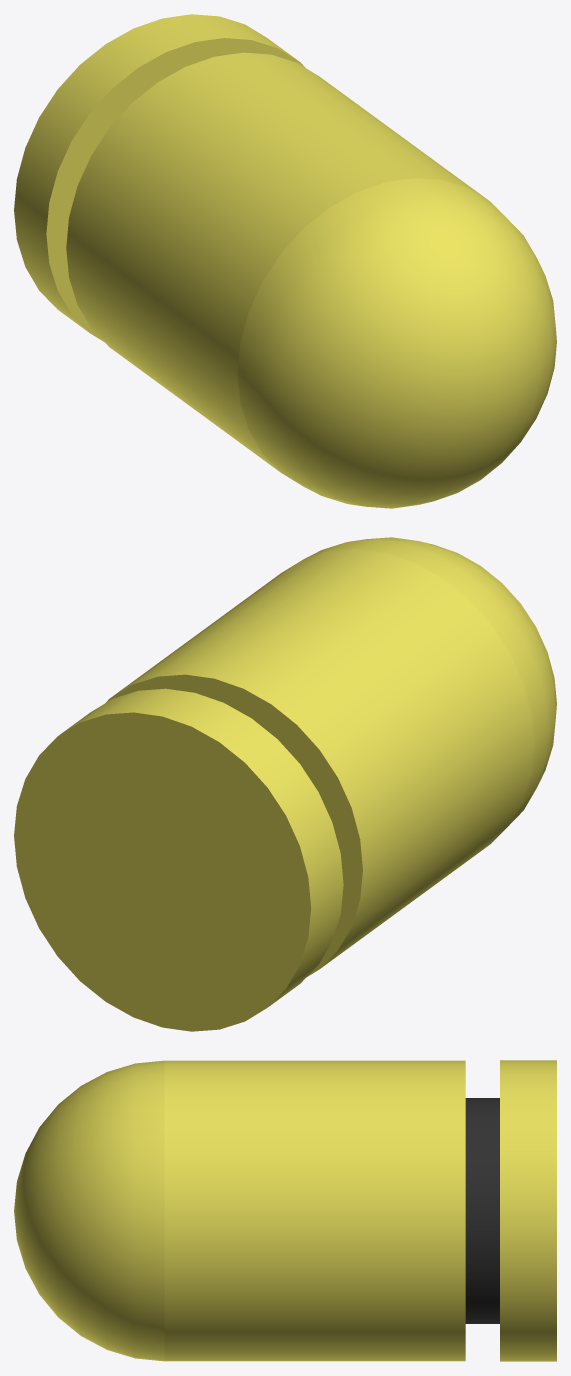
The model's file is boulet.fbx.
3 views of the same model, one above another, from view 1: azimuth 30°, elevation 25°; view 2: azimuth 150°, elevation 25°; view 3: azimuth 270°, elevation 25° (orthographic). The views are drawn at different scales.
Visible parts, largest first — view 1: Sphere; view 2: Sphere; view 3: Sphere.
Boxes of the visible parts, x1=… form: Sphere: x1=14, y1=14, x2=556, y2=508; Sphere: x1=14, y1=537, x2=556, y2=1031; Sphere: x1=14, y1=1060, x2=556, y2=1361.
Size of the model in its own units: 1001 by 1001 by 1804.
